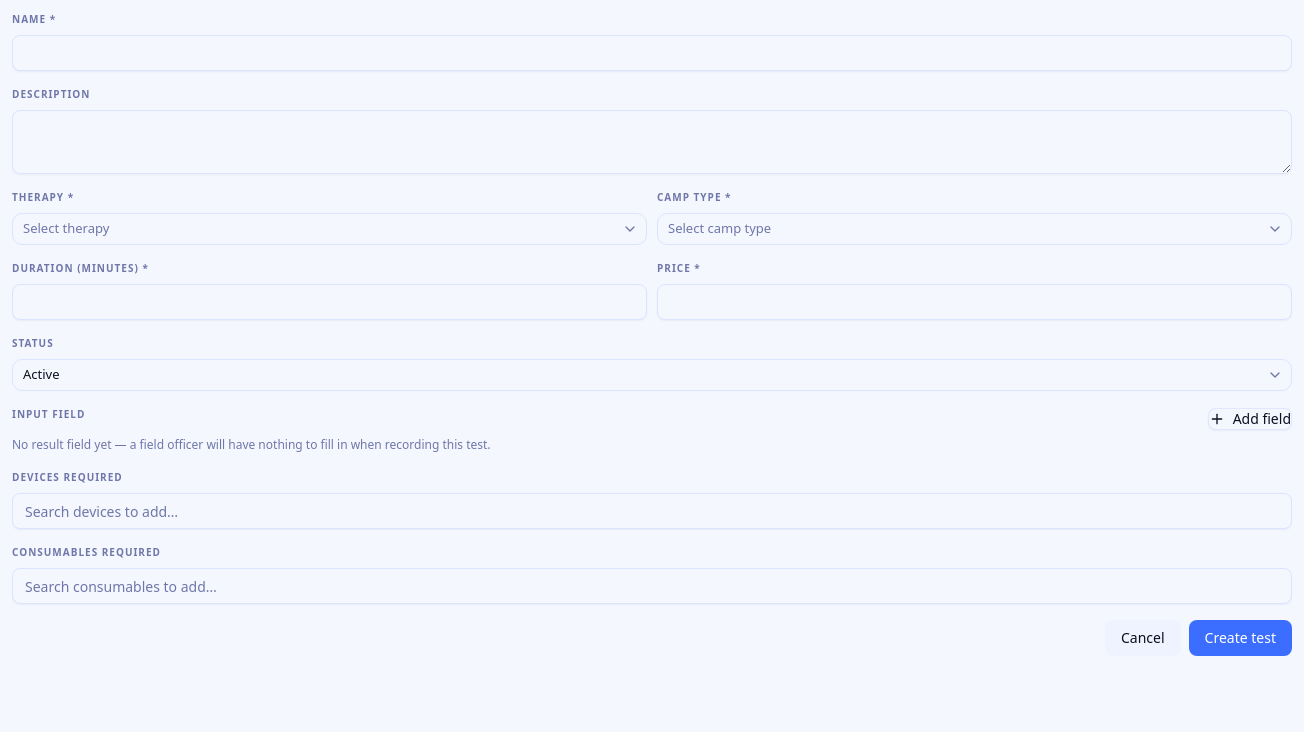
Scenario: TestForm — create mode › blocks submission when duration/price are left blank instead of silently defaulting to 0
Type "ECG Test" into the field labelled "Name *" at (652, 53), box [12, 35, 1292, 71]
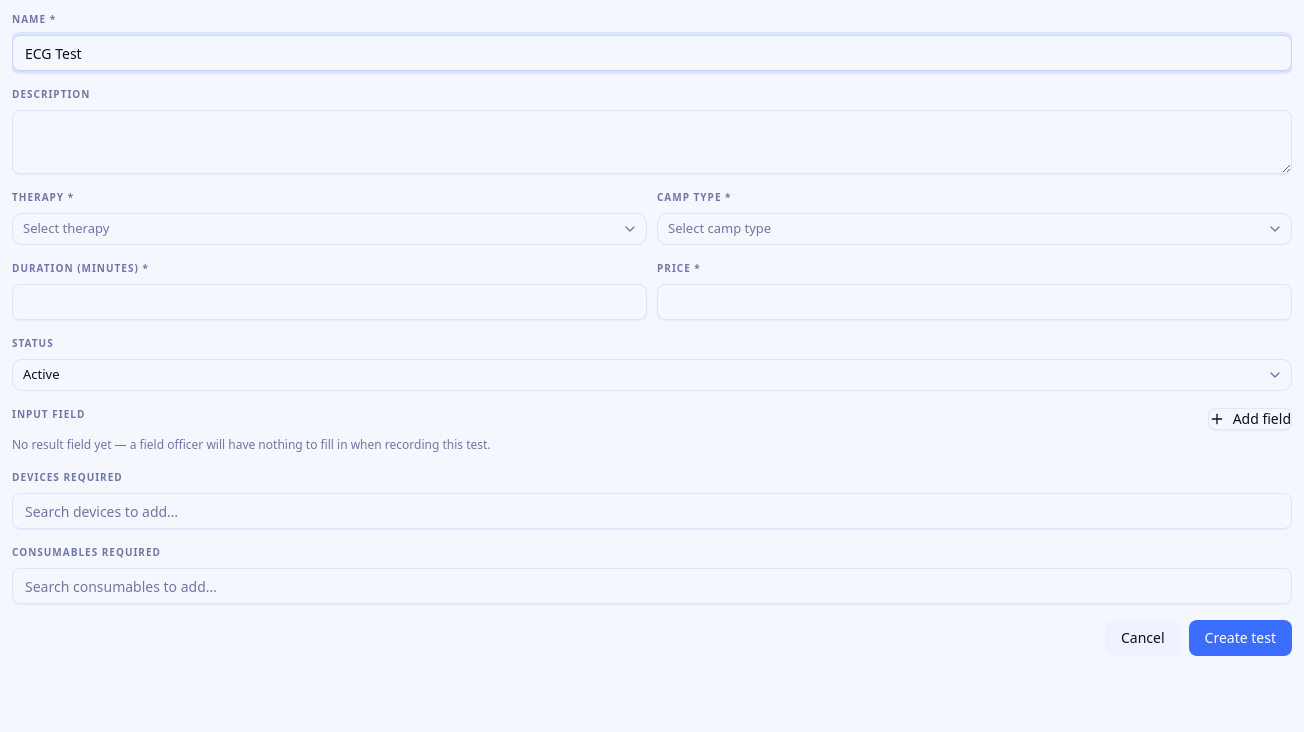
Click the dropdown labelled "Select therapy ▼" at (66, 228), box [12, 213, 647, 245]
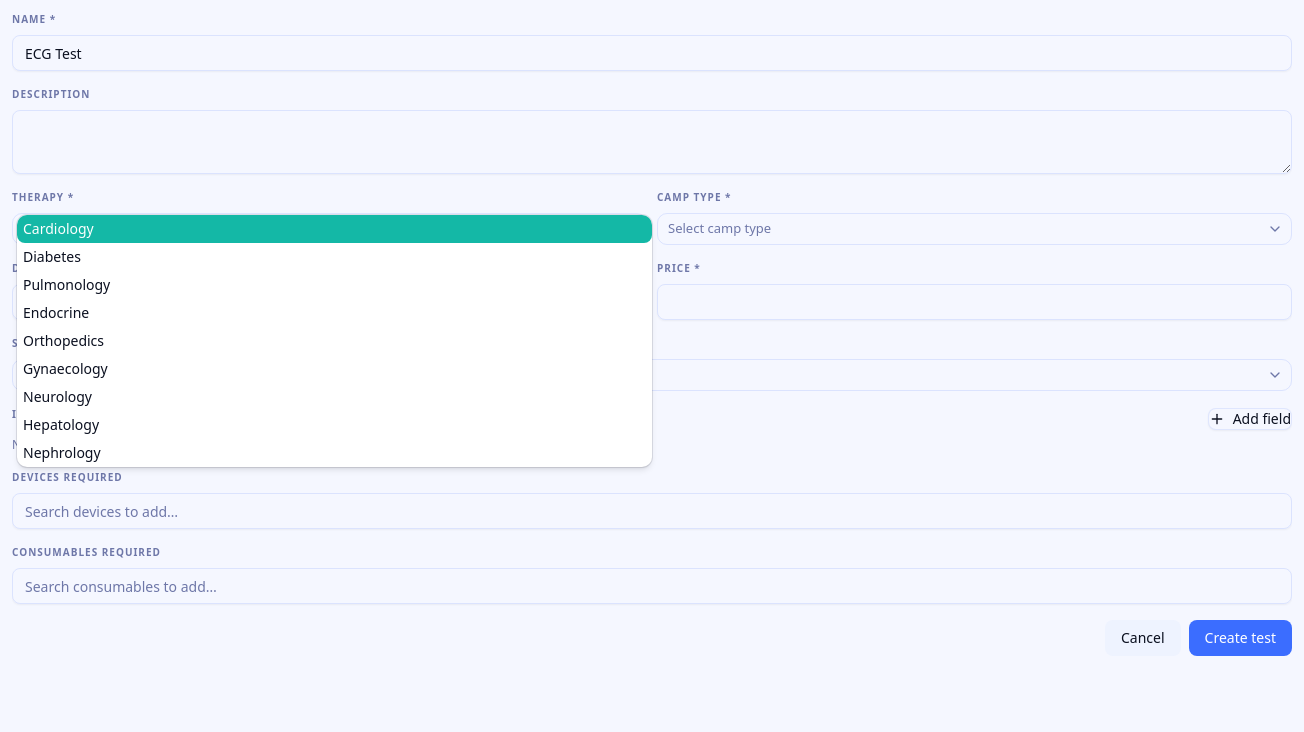
Click the option "Cardiology" at (58, 228), box [17, 215, 652, 243]
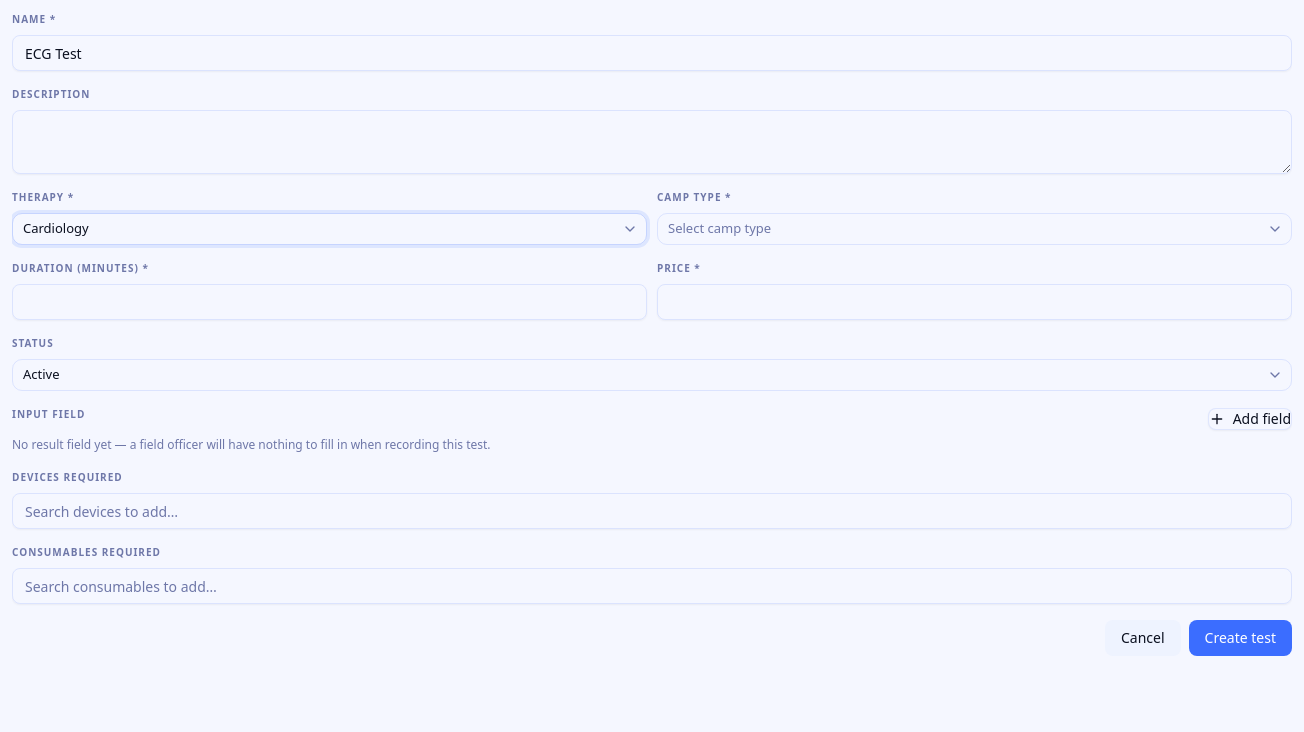
Click the dropdown labelled "Select camp type ▼" at (720, 228), box [657, 213, 1292, 245]
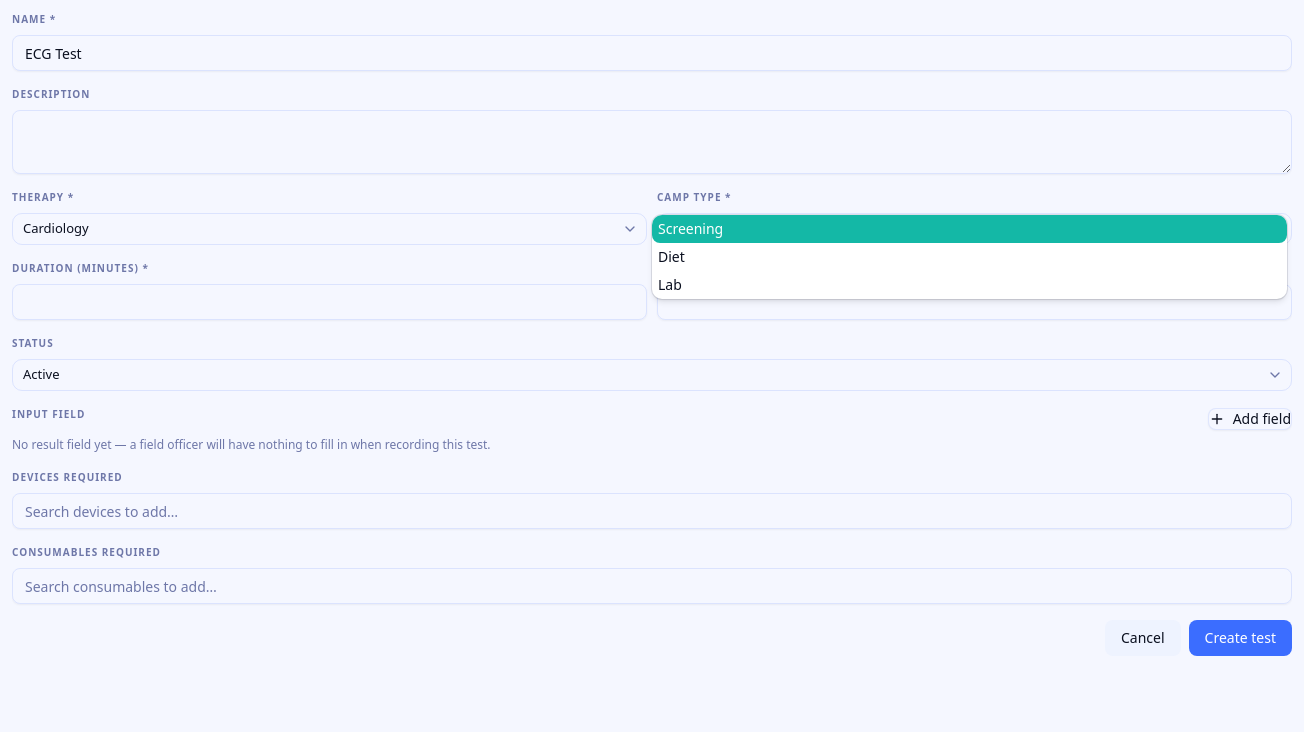
Click the option "Screening" at (691, 228), box [652, 215, 1287, 243]
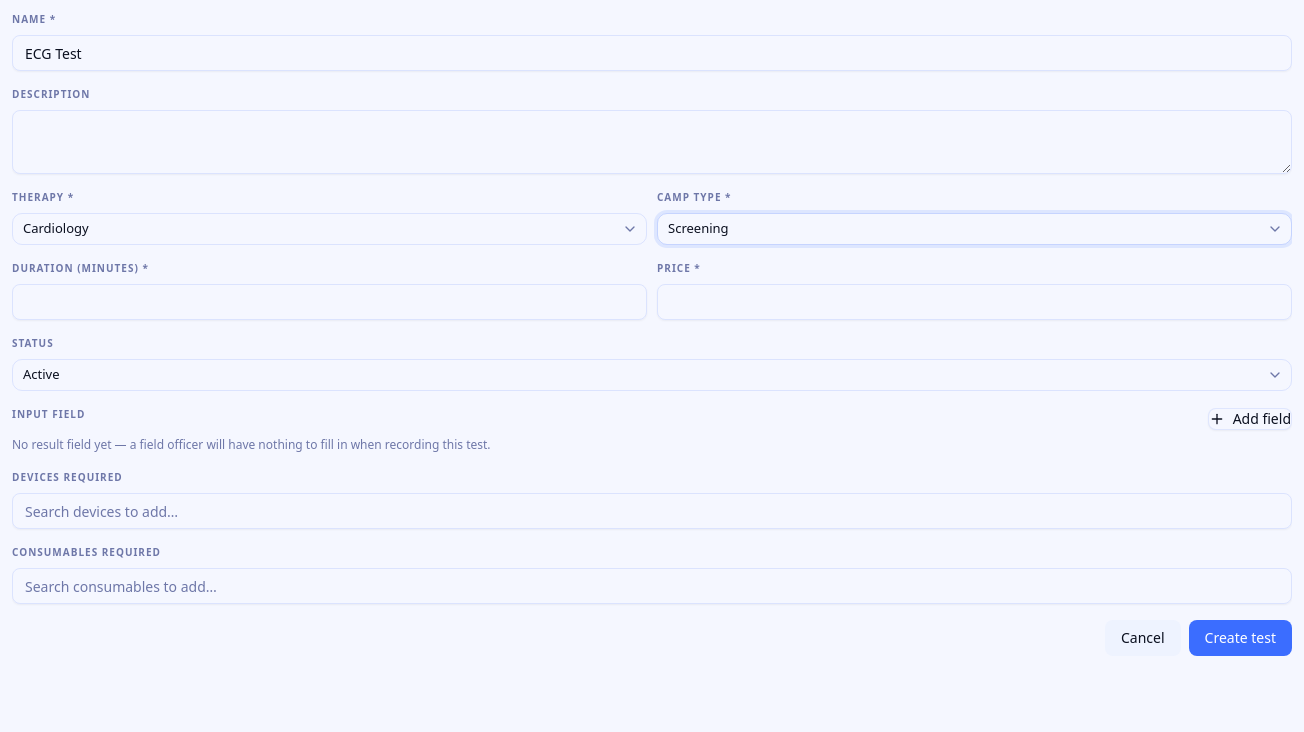
Click the button "Create test" at (1240, 638), box [1189, 620, 1292, 656]
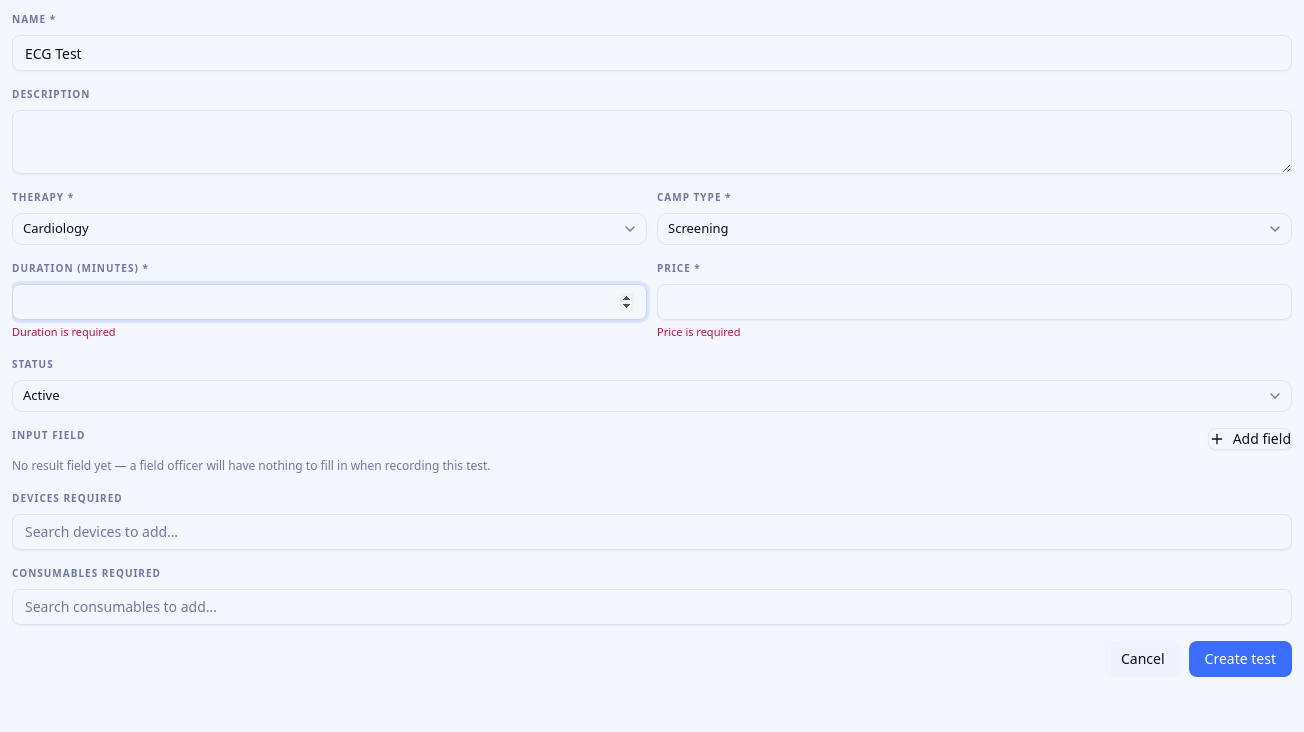
Check: the text "Duration is required" is shown, box [12, 324, 116, 339]
Check: the text "Price is required" is shown, box [657, 324, 741, 339]
